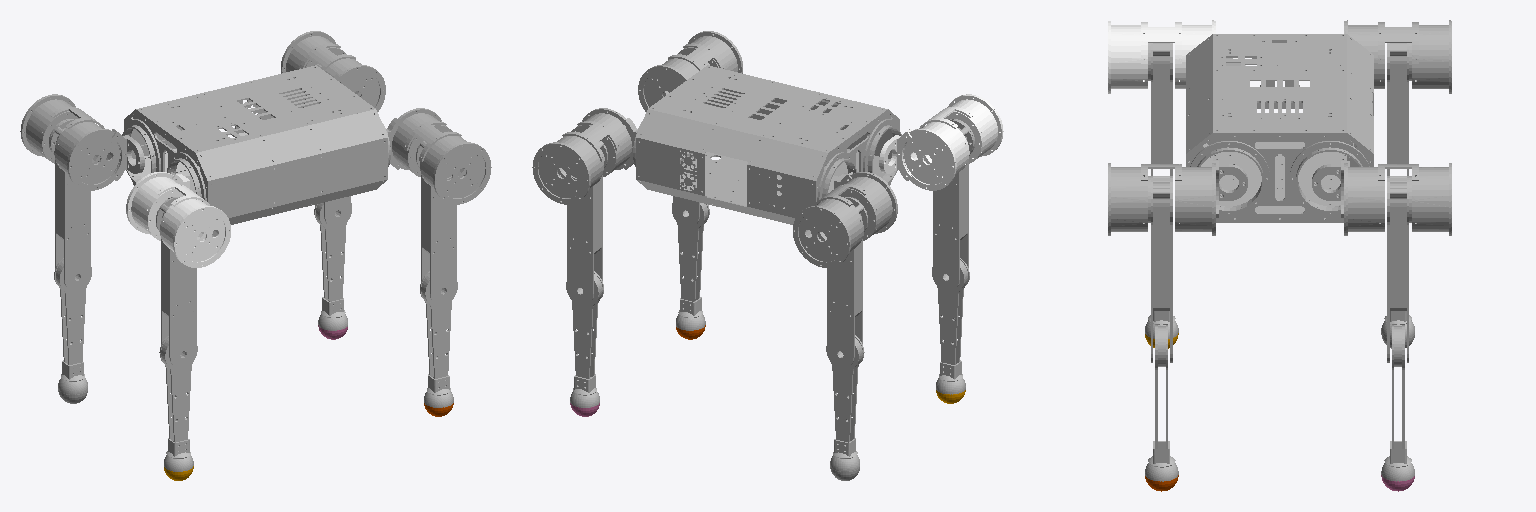
--- What the picture shows (computed from the rendered views, not written in the file) ---
The picture shows the robot from 3 angles, left to right: view 1: azimuth 30°, elevation 25°; view 2: azimuth 150°, elevation 25°; view 3: azimuth 270°, elevation 25°; orthographic projection.
Model m2_description with 17 links and 16 joints (16 revolute), rooted at base, posed every joint at zero.
Visible links, largest first — view 1: base, rl_abd_l, rr_abd_l, fr_abd_l, rl_hip_l, rr_hip_l, fr_hip_l, fl_abd_l, rl_knee_l, fr_knee_l, rr_knee_l, fl_knee_a (+1 smaller); view 2: base, rr_abd_l, rl_abd_l, fl_abd_l, rr_hip_l, rl_hip_l, fl_hip_l, fr_abd_l, rr_knee_l, fl_knee_a, rl_knee_l, fr_knee_l (+1 smaller); view 3: base, fr_abd_l, fl_abd_l, rr_abd_l, rl_abd_l, fr_hip_l, fl_hip_l, rr_hip_l, rl_hip_l, fr_knee_l, fl_knee_a.
Boxes of the visible links, <box> form: base: <box>122,65,390,224</box>; rl_abd_l: <box>20,94,144,190</box>; rr_abd_l: <box>126,172,230,267</box>; fr_abd_l: <box>386,108,491,204</box>; rl_hip_l: <box>49,119,90,290</box>; rr_hip_l: <box>156,197,196,368</box>; fr_hip_l: <box>416,141,456,304</box>; fl_abd_l: <box>281,31,385,111</box>; rl_knee_l: <box>54,258,91,394</box>; fr_knee_l: <box>420,271,457,407</box>; rr_knee_l: <box>159,336,197,471</box>; fl_knee_a: <box>314,203,351,330</box>; base: <box>633,65,901,224</box>; rr_abd_l: <box>879,94,1003,190</box>; rl_abd_l: <box>793,172,897,267</box>; fl_abd_l: <box>532,108,637,204</box>; rr_hip_l: <box>933,119,974,290</box>; rl_hip_l: <box>827,197,867,368</box>; fl_hip_l: <box>567,141,607,304</box>; fr_abd_l: <box>638,31,742,111</box>; rr_knee_l: <box>932,258,969,394</box>; fl_knee_a: <box>566,271,603,407</box>; rl_knee_l: <box>826,335,864,471</box>; fr_knee_l: <box>672,203,709,330</box>; base: <box>1186,34,1373,222</box>; fr_abd_l: <box>1108,161,1247,235</box>; fl_abd_l: <box>1312,161,1451,235</box>; rr_abd_l: <box>1108,20,1245,93</box>; rl_abd_l: <box>1344,20,1451,93</box>; fr_hip_l: <box>1148,176,1172,362</box>; fl_hip_l: <box>1387,176,1411,362</box>; rr_hip_l: <box>1148,43,1172,175</box>; rl_hip_l: <box>1387,43,1411,175</box>; fr_knee_l: <box>1145,325,1178,481</box>; fl_knee_a: <box>1381,325,1414,481</box>.
Size in the robot's own frame: 0.4845 by 0.4074 by 0.4385 metres.
13 mesh visuals loaded from 13 distinct referenced files (13 binary STL).

URDF robot description (m2_description):
<?xml version="1.0" encoding="utf-8"?>
<!-- This URDF was automatically created by SolidWorks to URDF Exporter! Originally created by Stephen Brawner ([email redacted]) 
     Commit Version: 1.6.0-1-g15f4949  Build Version: 1.6.7594.29634
     For more information, please see http://wiki.ros.org/sw_urdf_exporter -->
<robot
  name="m2_description">
  <link
    name="base">
    <inertial>
      <origin xyz="0.0047249 -0.0000177 0.0011585" rpy="0 0 0" />
      <mass value="3.4234000" />
      <inertia ixx="0.0163964" ixy="-0.0000159" ixz="0.0010427" iyy="0.0425922" iyz="-0.0000006" izz="0.0511340" />
    </inertial>
    <visual>
      <origin
        xyz="0 0 0"
        rpy="0 0 0" />
      <geometry>
        <mesh
          filename="package://m2_description/meshes/BASE.STL" />
      </geometry>
      <material
        name="">
        <color
          rgba="0.75294 0.75294 0.75294 1" />
      </material>
    </visual>
    <collision>
      <origin
        xyz="0 0 0"
        rpy="0 0 0" />
      <geometry>
        <mesh
          filename="package://m2_description/meshes/BASE.STL" />
      </geometry>
    </collision>
  </link>
<link name="fr_abd_l">
    <inertial>
      <origin xyz="0.0492121 -0.0779589 0.0008006" rpy="0 0 0" />
      <mass value="1.3509490" />
      <inertia ixx="0.0033376" ixy="-0.0001656" ixz="0.0000090" iyy="0.0011263" iyz="-0.0000051" izz="0.0033905" />
    </inertial>
    <visual>
      <origin
        xyz="0 0 0"
        rpy="0 0 0" />
      <geometry>
        <mesh
          filename="package://m2_description/meshes/RF_HIP.STL" />
      </geometry>
      <material
        name="">
        <color
          rgba="0.75294 0.75294 0.75294 1" />
      </material>
    </visual>
    <collision>
      <origin
        xyz="0 0 0"
        rpy="0 0 0" />
      <geometry>
        <mesh
          filename="package://m2_description/meshes/RF_HIP.STL" />
      </geometry>
    </collision>
  </link>
  <joint
    name="fr_abd_j"
    type="revolute">
    <origin
      xyz="0.155 -0.06 0"
      rpy="0 0 0" />
    <parent
      link="base" />
    <child
      link="fr_abd_l" />
    <axis
      xyz="1 0 0" />
    <limit
      lower="-4.8"
      upper="4.8"
      effort="20"
      velocity="52.4" />
  </joint>
  <link
    name="fr_hip_l">
    <inertial>
      <origin xyz="-0.0000042 0.0008381 -0.0603416" rpy="0 0 0" />
      <mass value="0.2502465" />
      <inertia ixx="0.0011437" ixy="0.0000000" ixz="-0.0000001" iyy="0.0011591" iyz="0.0000243" izz="0.0000720" />
    </inertial>
    <visual>
      <origin
        xyz="0 0 0"
        rpy="0 0 0" />
      <geometry>
        <mesh
          filename="package://m2_description/meshes/RF_THIGH.STL" />
      </geometry>
      <material
        name="">
        <color
          rgba="0.75294 0.75294 0.75294 1" />
      </material>
    </visual>
    <collision>
      <origin
        xyz="0 0 0"
        rpy="0 0 0" />
      <geometry>
        <mesh
          filename="package://m2_description/meshes/RF_THIGH.STL" />
      </geometry>
    </collision>
  </link>
  <joint
    name="fr_hip_j"
    type="revolute">
    <origin
      xyz="0.043751 -0.0796 0"
      rpy="0 0 0" />
    <parent
      link="fr_abd_l" />
    <child
      link="fr_hip_l" />
    <axis
      xyz="0 -1 0" />
    <limit effort="55" lower="-4.0471975512" upper="4.18879020479" velocity="28.6"/>

  </joint>
  <link
    name="fr_knee_l">
    <inertial>
      <origin xyz="-0.0035383 -0.0000273 -0.0688420" rpy="0 0 0" />
      <mass value="0.2017400" />
      <inertia ixx="0.0010436" ixy="-0.0000001" ixz="-0.0000693" iyy="0.0010692" iyz="-0.0000010" izz="0.0000424" />
    </inertial>
    <visual>
      <origin
        xyz="0 0 0"
        rpy="0 0 0" />
      <geometry>
        <mesh
          filename="package://m2_description/meshes/RF_SHANK.STL" />
      </geometry>
      <material
        name="">
        <color
          rgba="0.75294 0.75294 0.75294 1" />
      </material>
    </visual>
    <collision>
      <origin
        xyz="0 0 0"
        rpy="0 0 0" />
      <geometry>
        <mesh
          filename="package://m2_description/meshes/RF_SHANK.STL" />
      </geometry>
    </collision>
  </link>
  <joint
    name="fr_knee_j"
    type="revolute">
    <origin
      xyz="0 0 -0.1915"
      rpy="0 0 0" />
    <parent
      link="fr_hip_l" />
    <child
      link="fr_knee_l" />
    <axis
      xyz="0 -1 0" />
    <limit effort="55" lower="-4.69653369433" upper="4.916297857297" velocity="28.6"/>
  </joint>
  <joint name="fr_dummy_j" type="revolute">
    <origin
      xyz="-0.0 0 -0.16693"
      rpy="0 0 0" />
    <parent
      link="fr_knee_l" />
    <child
      link="foot_FR" />
    <limit lower="0" upper="0" effort="0" velocity="0" />
    <axis
      xyz="0 0 1" />
  </joint>
  <link
    name="fl_abd_l">
    <inertial>
      <origin xyz="0.0492121 0.0779589 0.0008006" rpy="0 0 0" />
      <mass value="1.3509490" />
      <inertia ixx="0.0033376" ixy="0.0001656" ixz="0.0000090" iyy="0.0011263" iyz="0.0000051" izz="0.0033905" />
    </inertial>
    <visual>
      <origin
        xyz="0 0 0"
        rpy="0 0 0" />
      <geometry>
        <mesh
          filename="package://m2_description/meshes/LF_HIP.STL" />
      </geometry>
      <material
        name="">
        <color
          rgba="0.752941176470588 0.752941176470588 0.752941176470588 1" />
      </material>
    </visual>
    <collision>
      <origin
        xyz="0 0 0"
        rpy="0 0 0" />
      <geometry>
        <mesh
          filename="package://m2_description/meshes/LF_HIP.STL" />
      </geometry>
    </collision>
  </link>
  <joint
    name="fl_abd_j"
    type="revolute">
    <origin
      xyz="0.155 0.06 0"
      rpy="0 0 0" />
    <parent
      link="base" />
    <child
      link="fl_abd_l" />
    <axis
      xyz="1 0 0" />
    <limit effort="20" lower="-3.802851455917" upper="3.802851455917" velocity="52.4"/>

  </joint>
  <link
    name="fl_hip_l">
    <inertial>
      <origin xyz="-0.0000042 -0.0008381 -0.0603416" rpy="0 0 0" />
      <mass value="0.2502465" />
      <inertia ixx="0.0011437" ixy="0.0000000" ixz="0.0000001" iyy="0.0011591" iyz="0.0000243" izz="0.0000720" />
    </inertial>
    <visual>
      <origin
        xyz="0 0 0"
        rpy="0 0 0" />
      <geometry>
        <mesh
          filename="package://m2_description/meshes/LF_THIGH.STL" />
      </geometry>
      <material
        name="">
        <color
          rgba="0.752941176470588 0.752941176470588 0.752941176470588 1" />
      </material>
    </visual>
    <collision>
      <origin
        xyz="0 0 0"
        rpy="0 0 0" />
      <geometry>
        <mesh
          filename="package://m2_description/meshes/LF_THIGH.STL" />
      </geometry>
    </collision>
  </link>
  <joint
    name="fl_hip_j"
    type="revolute">
    <origin
      xyz="0.043751 0.0796 0"
      rpy="0 0 0" />
    <parent
      link="fl_abd_l" />
    <child
      link="fl_hip_l" />
    <axis
      xyz="0 1 0" />
    <limit effort="55" lower="-4.0471975512" upper="4.18879020479" velocity="28.6"/>

  </joint>
  <link
    name="fl_knee_a">
    <inertial>
      <origin xyz="-0.0035383 0.0000273 -0.0688420" rpy="0 0 0" />
      <mass value="0.2017400" />
      <inertia ixx="0.0010436" ixy="0.0000001" ixz="-0.0000693" iyy="0.0010692" iyz="0.0000010" izz="0.0000424" />
    </inertial>
    <visual>
      <origin
        xyz="0 0 0"
        rpy="0 0 0" />
      <geometry>
        <mesh
          filename="package://m2_description/meshes/LF_SHANK.STL" />
      </geometry>
      <material
        name="">
        <color
          rgba="0.752941176470588 0.752941176470588 0.752941176470588 1" />
      </material>
    </visual>
    <collision>
      <origin
        xyz="0 0 0"
        rpy="0 0 0" />
      <geometry>
        <mesh
          filename="package://m2_description/meshes/LF_SHANK.STL" />
      </geometry>
    </collision>
  </link>
  <joint
    name="fl_knee_j"
    type="revolute">
    <origin
      xyz="0 0 -0.1915"
      rpy="0 0 0" />
    <parent
      link="fl_hip_l" />
    <child
      link="fl_knee_a" />
    <axis
      xyz="0 1 0" />
    <limit effort="55" lower="-4.69653369433" upper="4.916297857297" velocity="28.6"/>

  </joint>
  <joint name="fl_dummy_j" type="revolute">
    <origin
      xyz="-0.0 0 -0.16693"
      rpy="0 0 0" />
    <parent
      link="fl_knee_a" />
    <child
      link="foot_FL" />
    <axis
      xyz="0 0 1" />
    <limit lower="0" upper="0" effort="1000" velocity="0" />
  </joint>

  <link
    name="rr_abd_l">
    <inertial>
      <origin xyz="-0.0492121 -0.0779589 0.0008006" rpy="0 0 0" />
      <mass value="1.3509490" />
      <inertia ixx="0.0033376" ixy="0.0001656" ixz="-0.0000090" iyy="0.0011263" iyz="-0.0000051" izz="0.0033905" />
    </inertial>
    <visual>
      <origin
        xyz="0 0 0"
        rpy="0 0 0" />
      <geometry>
        <mesh
          filename="package://m2_description/meshes/RH_HIP.STL" />
      </geometry>
      <material
        name="">
        <color
          rgba="1 1 1 1" />
      </material>
    </visual>
    <collision>
      <origin
        xyz="0 0 0"
        rpy="0 0 0" />
      <geometry>
        <mesh
          filename="package://m2_description/meshes/RH_HIP.STL" />
      </geometry>
    </collision>
  </link>
  <joint
    name="rr_abd_j"
    type="revolute">
    <origin
      xyz="-0.155 -0.06 0"
      rpy="0 0 0" />
    <parent
      link="base" />
    <child
      link="rr_abd_l" />
    <axis
      xyz="-1 0 0" />
    <limit effort="20" lower="-4.802851455917" upper="4.802851455917" velocity="52.4"/>

  </joint>
  <link
    name="rr_hip_l">
    <inertial>
      <origin xyz="0.0000042 0.0008381 -0.0603416" rpy="0 0 0" />
      <mass value="0.2502465" />
      <inertia ixx="0.0011437" ixy="0.0000000" ixz="-0.0000001" iyy="0.0011591" iyz="-0.0000243" izz="0.0000720" />
    </inertial>
    <visual>
      <origin
        xyz="0 0 0"
        rpy="0 0 0" />
      <geometry>
        <mesh
          filename="package://m2_description/meshes/RH_THIGH.STL" />
      </geometry>
      <material
        name="">
        <color
          rgba="0.752941176470588 0.752941176470588 0.752941176470588 1" />
      </material>
    </visual>
    <collision>
      <origin
        xyz="0 0 0"
        rpy="0 0 0" />
      <geometry>
        <mesh
          filename="package://m2_description/meshes/RH_THIGH.STL" />
      </geometry>
    </collision>
  </link>
  <joint
    name="rr_hip_j"
    type="revolute">
    <origin
      xyz="-0.043751 -0.0796 0"
      rpy="0 0 0" />
    <parent
      link="rr_abd_l" />
    <child
      link="rr_hip_l" />
    <axis
      xyz="0 -1 0" />
    <limit effort="55" lower="-4.0471975512" upper="4.18879020479" velocity="28.6"/>

  </joint>
  <link
    name="rr_knee_l">
    <inertial>
      <origin xyz="0.0035383 0.0000273 -0.0688420" rpy="0 0 0" />
      <mass value="0.2017400" />
      <inertia ixx="0.0010436" ixy="0.0000001" ixz="-0.0000693" iyy="0.0010692" iyz="-0.0000010" izz="0.0000424" />
    </inertial>
    <visual>
      <origin
        xyz="0 0 0"
        rpy="0 0 0" />
      <geometry>
        <mesh
          filename="package://m2_description/meshes/RH_SHANK.STL" />
      </geometry>
      <material
        name="">
        <color
          rgba="0.752941176470588 0.752941176470588 0.752941176470588 1" />
      </material>
    </visual>
    <collision>
      <origin
        xyz="0 0 0"
        rpy="0 0 0" />
      <geometry>
        <mesh
          filename="package://m2_description/meshes/RH_SHANK.STL" />
      </geometry>
    </collision>
  </link>
  <joint
    name="rr_knee_j"
    type="revolute">
    <origin
      xyz="0 0 -0.1915"
      rpy="0 0 0" />
    <parent
      link="rr_hip_l" />
    <child
      link="rr_knee_l" />
    <axis
      xyz="0 -1 0" />
    <limit effort="55" lower="-4.69653369433" upper="4.916297857297" velocity="28.6"/>

  </joint>
    <joint name="rr_dummy_j" type="revolute">
    <origin
      xyz="-0.0 0 -0.16802"
      rpy="0 0 0" />
    <parent
      link="rr_knee_l" />
    <child
      link="foot_RR" />
    <limit lower="0" upper="0" effort="1000" velocity="0" />
    <axis
      xyz="0 0 1" />
  </joint>
  <link
    name="rl_abd_l">
    <inertial>
      <origin xyz="-0.0492121 0.0779589 0.0008006" rpy="0 0 0" />
      <mass value="1.3509490" />
      <inertia ixx="0.0033376" ixy="-0.0001656" ixz="-0.0000090" iyy="0.0011263" iyz="0.0000051" izz="0.0033905" />
    </inertial>
    <visual>
      <origin
        xyz="0 0 0"
        rpy="0 0 0" />
      <geometry>
        <mesh
          filename="package://m2_description/meshes/LH_HIP.STL" />
      </geometry>
      <material
        name="">
        <color
          rgba="0.752941176470588 0.752941176470588 0.752941176470588 1" />
      </material>
    </visual>
    <collision>
      <origin
        xyz="0 0 0"
        rpy="0 0 0" />
      <geometry>
        <mesh
          filename="package://m2_description/meshes/LH_HIP.STL" />
      </geometry>
    </collision>
  </link>
  <joint
    name="rl_abd_j"
    type="revolute">
    <origin
      xyz="-0.155 0.06 0"
      rpy="0 0 0" />
    <parent
      link="base" />
    <child
      link="rl_abd_l" />
    <axis
      xyz="-1 0 0" />
    <limit effort="20" lower="-4.802851455917" upper="4.802851455917" velocity="52.4"/>

  </joint>
  <link
    name="rl_hip_l">
    <inertial>
      <origin xyz="-0.0000042 -0.0008381 -0.0603416" rpy="0 0 0" />
      <mass value="0.2502465" />
      <inertia ixx="0.0011437" ixy="0.0000000" ixz="-0.0000001" iyy="0.0011591" iyz="0.0000243" izz="0.0000720" />
    </inertial>
    <visual>
      <origin
        xyz="0 0 0"
        rpy="0 0 0" />
      <geometry>
        <mesh
          filename="package://m2_description/meshes/LH_THIGH.STL" />
      </geometry>
      <material
        name="">
        <color
          rgba="0.752941176470588 0.752941176470588 0.752941176470588 1" />
      </material>
    </visual>
    <collision>
      <origin
        xyz="0 0 0"
        rpy="0 0 0" />
      <geometry>
        <mesh
          filename="package://m2_description/meshes/LH_THIGH.STL" />
      </geometry>
    </collision>
  </link>
  <joint
    name="rl_hip_j"
    type="revolute">
    <origin
      xyz="-0.043751 0.0796 0"
      rpy="0 0 0" />
    <parent
      link="rl_abd_l" />
    <child
      link="rl_hip_l" />
    <axis
      xyz="0 1 0" />
    <limit effort="55" lower="-4.0471975512" upper="4.18879020479" velocity="28.6"/>

  </joint>
  <link
    name="rl_knee_l">
    <inertial>
      <origin xyz="0.0035383 -0.0000273 -0.0688420" rpy="0 0 0" />
      <mass value="0.2017400" />
      <inertia ixx="0.0010436" ixy="-0.0000001" ixz="-0.0000693" iyy="0.0010692" iyz="0.0000010" izz="0.0000424" />
    </inertial>
    <visual>
      <origin
        xyz="0 0 0"
        rpy="0 0 0" />
      <geometry>
        <mesh
          filename="package://m2_description/meshes/LH_SHANK.STL" />
      </geometry>
      <material
        name="">
        <color
          rgba="0.752941176470588 0.752941176470588 0.752941176470588 1" />
      </material>
    </visual>
    <collision>
      <origin
        xyz="0 0 0"
        rpy="0 0 0" />
      <geometry>
        <mesh
          filename="package://m2_description/meshes/LH_SHANK.STL" />
      </geometry>
    </collision>
  </link>
  <joint
    name="rl_knee_j"
    type="revolute">
    <origin
      xyz="0 0 -0.1915"
      rpy="0 0 0" />
    <parent
      link="rl_hip_l" />
    <child
      link="rl_knee_l" />
    <axis
      xyz="0 1 0" />
    <limit effort="55" lower="-4.69653369433" upper="4.916297857297" velocity="28.6"/>

  </joint>

  <link name="foot_FR">
    <contact>
      <friction_anchor/>
      <stiffness value="30000.0"/>
      <damping value="750.0"/>
      <spinning_friction value="0.3"/>
      <lateral_friction value="50"/>
    </contact>
    <inertial>
        <origin xyz="0.0014979844072685 1.99840144432528E-15 7.77349055681165E-05"
        rpy="0 0 0" /> 
        <mass value="0.025" />
        <inertia ixx="2e-6" ixy="0" ixz="0" iyy="2e-6" iyz="0" izz="2e-6" />
      </inertial>
      <visual>
        <origin xyz="0 0 0" rpy="0 0 0" />
        <geometry>
          <sphere radius="0.02" />
        </geometry>
      </visual>
      <collision>
        <origin xyz="0 0 0" rpy="0 0 0" />
        <geometry>
          <sphere radius="0.02" />
        </geometry>
      </collision>
  </link>
  <link name="foot_FL">
    <contact>
      <friction_anchor/>
      <stiffness value="30000.0"/>
      <damping value="750.0"/>
      <spinning_friction value="0.3"/>
      <lateral_friction value="50"/>
    </contact>
    <inertial>
        <origin xyz="0.0014979844072685 1.99840144432528E-15 7.77349055681165E-05"
        rpy="0 0 0" /> 
        <mass value="0.025" />
        <inertia ixx="2e-6" ixy="0" ixz="0" iyy="2e-6" iyz="0" izz="2e-6" />
      </inertial>
      <visual>
        <origin xyz="0 0 0" rpy="0 0 0" />
        <geometry>
          <sphere radius="0.02" />
        </geometry>
      </visual>
      <collision>
        <origin xyz="0 0 0" rpy="0 0 0" />
        <geometry>
          <sphere radius="0.02" />
        </geometry>
      </collision>
  </link>
  <link name="foot_RL">
    <contact>
      <friction_anchor/>
      <stiffness value="30000.0"/>
      <damping value="750.0"/>
      <spinning_friction value="0.3"/>
      <lateral_friction value="50"/>
    </contact>
    <inertial>
        <origin xyz="0.0014979844072685 1.99840144432528E-15 7.77349055681165E-05"
        rpy="0 0 0" /> 
        <mass value="0.025" />
        <inertia ixx="2e-6" ixy="0" ixz="0" iyy="2e-6" iyz="0" izz="2e-6" />
      </inertial>
      <visual>
        <origin xyz="0 0 0" rpy="0 0 0" />
        <geometry>
          <sphere radius="0.02" />
        </geometry>
      </visual>
      <collision>
        <origin xyz="0 0 0" rpy="0 0 0" />
        <geometry>
          <sphere radius="0.02" />
        </geometry>
      </collision>
  </link>
  <link name="foot_RR">
    <contact>
      <friction_anchor/>
      <stiffness value="30000.0"/>
      <damping value="750.0"/>
      <spinning_friction value="0.3"/>
      <lateral_friction value="50"/>
    </contact>
    <inertial>
        <origin xyz="0.0014979844072685 1.99840144432528E-15 7.77349055681165E-05"
        rpy="0 0 0" /> 
        <mass value="0.025" />
        <inertia ixx="2e-6" ixy="0" ixz="0" iyy="2e-6" iyz="0" izz="2e-6" />
      </inertial>
      <visual>
        <origin xyz="0 0 0" rpy="0 0 0" />
        <geometry>
          <sphere radius="0.02" />
        </geometry>
      </visual>
      <collision>
        <origin xyz="0 0 0" rpy="0 0 0" />
        <geometry>
          <sphere radius="0.02" />
        </geometry>
      </collision>
  </link>
  <joint name="rl_dummy_j" type="revolute" >
    <origin
      xyz="-0.0 0 -0.16802"
      rpy="0 0 0" />
    <parent
      link="rl_knee_l" />
    <child
      link="foot_RL" />
    <axis
      xyz="0 0 1" />
    <limit lower="0" upper="0" effort="1000" velocity="0" />
  </joint>

  <gazebo reference="foot_FR">
      <material>Gazebo/Black</material>
    <collision>
      <surface>
        <bounce>
          <restitution_coefficient>0</restitution_coefficient>
          <threshold>1e+06</threshold>
        </bounce>
        <friction>
          <torsional>
            <coefficient>0.3</coefficient>
          </torsional>
          <ode>
            <mu>100.0</mu>
            <mu2>50</mu2>
          </ode>
          <bullet>
            <rolling_friction>0.3</rolling_friction>
            <friction2>50</friction2>
          </bullet>
        </friction>
        <contact>
          <bullet>
            <kp>30000.0</kp>
            <kd>1000.0</kd>
          </bullet>
          <ode>
            <kp>30000.0</kp>
            <kd>1000.0</kd>
          </ode>
        </contact>
      </surface>
    </collision>
  </gazebo>

  <gazebo reference="foot_FL">
      <material>Gazebo/Black</material>
    <collision>
      <surface>
        <bounce>
          <restitution_coefficient>0</restitution_coefficient>
          <threshold>1e+06</threshold>
        </bounce>
        <friction>
          <torsional>
            <coefficient>0.3</coefficient>
          </torsional>
          <ode>
            <mu>100.0</mu>
            <mu2>50</mu2>
          </ode>
          <bullet>
            <rolling_friction>0.3</rolling_friction>
            <friction2>50</friction2>
          </bullet>
        </friction>
        <contact>
          <bullet>
            <kp>30000.0</kp>
            <kd>1000.0</kd>
          </bullet>
          <ode>
            <kp>30000.0</kp>
            <kd>1000.0</kd>
          </ode>
        </contact>
      </surface>
    </collision>
  </gazebo>

  <gazebo reference="foot_RL">
      <material>Gazebo/Black</material>
    <collision>
      <surface>
        <bounce>
          <restitution_coefficient>0</restitution_coefficient>
          <threshold>1e+06</threshold>
        </bounce>
        <friction>
          <torsional>
            <coefficient>0.3</coefficient>
          </torsional>
          <ode>
            <mu>100.0</mu>
            <mu2>50</mu2>
          </ode>
          <bullet>
            <rolling_friction>0.3</rolling_friction>
            <friction2>50</friction2>
          </bullet>
        </friction>
        <contact>
          <bullet>
            <kp>30000.0</kp>
            <kd>1000.0</kd>
          </bullet>
          <ode>
            <kp>30000.0</kp>
            <kd>1000.0</kd>
          </ode>
        </contact>
      </surface>
    </collision>
  </gazebo>

  <gazebo reference="foot_RR">
      <material>Gazebo/Black</material>
    <collision>
      <surface>
        <bounce>
          <restitution_coefficient>0</restitution_coefficient>
          <threshold>1e+06</threshold>
        </bounce>
        <friction>
          <torsional>
            <coefficient>0.3</coefficient>
          </torsional>
          <ode>
            <mu>100.0</mu>
            <mu2>50</mu2>
          </ode>
          <bullet>
            <rolling_friction>0.3</rolling_friction>
            <friction2>50</friction2>
          </bullet>
        </friction>
        <contact>
          <bullet>
            <kp>30000.0</kp>
            <kd>1000.0</kd>
          </bullet>
          <ode>
            <kp>30000.0</kp>
            <kd>1000.0</kd>
          </ode>
        </contact>
      </surface>
    </collision>
  </gazebo>

   <gazebo>
        <plugin name="joint_state_sensor" filename="libjoint_state_sensor.so"/>
    </gazebo>
    <gazebo>
        <plugin name="base_state_sensor" filename="libbase_state_sensor.so"/>
    </gazebo>
    <!-- <gazebo>
        <plugin name="contact_plugin" filename="libcontact_plugin_new.so">
          <link1>foot_FR</link1>
          <link2>foot_FL</link2>
          <link3>foot_RL</link3>
          <link4>foot_RR</link4>
          <contact_model>0</contact_model>
        </plugin>
    </gazebo> -->
    <gazebo reference="foot_FR">
      <sensor name="FR_contact_sensor" type="contact">
        <always_on>1</always_on>
        <plugin name="contact_plugin_default" filename="libcontact_plugin_default.so">
          <foot_link>FR</foot_link>
        </plugin>
        <contact>
          <collision>foot_FR_collision</collision>
        </contact>
      </sensor>
    </gazebo>
    <gazebo reference="foot_FL">
      <sensor name="FL_contact_sensor" type="contact">
        <always_on>1</always_on>
        <plugin name="contact_plugin_default" filename="libcontact_plugin_default.so">
          <foot_link>FL</foot_link>
        </plugin>
        <contact>
          <collision>foot_FL_collision</collision>
        </contact>
      </sensor>
    </gazebo>
    <gazebo reference="foot_RL">
      <sensor name="RL_contact_sensor" type="contact">
        <always_on>1</always_on>
        <plugin name="contact_plugin_default" filename="libcontact_plugin_default.so">
          <foot_link>RL</foot_link>
        </plugin>
        <contact>
          <collision>foot_RL_collision</collision>
        </contact>
      </sensor>
    </gazebo>
    <gazebo reference="foot_RR">
      <sensor name="RR_contact_sensor" type="contact">
        <always_on>1</always_on>
        <plugin name="contact_plugin_default" filename="libcontact_plugin_default.so">
          <foot_link>RR</foot_link>
        </plugin>
        <contact>
          <collision>foot_RR_collision</collision>
        </contact>
      </sensor>
    </gazebo>
    <gazebo>
        <plugin name="motor_controller" filename="libmotor_controller.so">
          <!-- <kp0>75</kp0>
          <kp1>30.2</kp1>
          <kp2>18.415</kp2> -->
          <kp0>200.2</kp0>
          <kp1>60.2</kp1>
          <kp2>42.415</kp2>
          <kd0>1</kd0>
          <kd1>1.5</kd1>
          <kd2>0.5</kd2>
          <!-- <kp0>80</kp0>
          <kp1>40</kp1>
          <kp2>20</kp2>
          <kd0>1</kd0>
          <kd1>1</kd1>
          <kd2>0.5</kd2> -->
          <!-- <kp0>200</kp0>
          <kp1>120</kp1>
          <kp2>60</kp2>
          <kd0>1</kd0>
          <kd1>1</kd1>
          <kd2>0.5</kd2> -->
          <!-- adding higher gains for the swing leg -->
          <kpsw0>300</kpsw0>
          <kpsw1>300</kpsw1>
          <kpsw2>300</kpsw2>
          <kdsw0>6</kdsw0>
          <kdsw1>6</kdsw1>
          <kdsw2>6</kdsw2>
        </plugin>
    </gazebo>
    <gazebo>
        <plugin name="imu_sensor" filename="libgazebo_ros_imu.so">
            <alwaysOn>true</alwaysOn>
            <bodyName>base</bodyName>
            <frameName>base</frameName>
            <topicName>/shvan/imu</topicName>
            <serviceName>imu_service</serviceName>
            <xyzOffset> 0 0 0 </xyzOffset>
            <rpyOffset> 0 0 0 </rpyOffset>
            <gaussianNoise>0.001</gaussianNoise>
            <updateRate>1000.0</updateRate>
        </plugin>
    </gazebo>
    
    <gazebo reference='base'>
      <material>Gazebo/Green</material>
    </gazebo>


    <gazebo reference='fr_knee_l'>
      <material>Gazebo/Black</material>
    </gazebo>

    <gazebo reference='fl_knee_a'>
      <material>Gazebo/Black</material>
    </gazebo>

    <gazebo reference='rr_knee_l'>
      <material>Gazebo/Black</material>
    </gazebo>

   <gazebo reference='rl_knee_l'>
      <material>Gazebo/Black</material>
    </gazebo>



    <gazebo reference='fr_hip_l'>
      <material>Gazebo/Black</material>
    </gazebo>

    <gazebo reference='fl_hip_l'>
      <material>Gazebo/Black</material>
    </gazebo>

    <gazebo reference='rr_hip_l'>
      <material>Gazebo/Black</material>
    </gazebo>

   <gazebo reference='rl_hip_l'>
      <material>Gazebo/Black</material>
    </gazebo>



    <gazebo reference='fr_abd_l'>
      <material>Gazebo/Grey</material>
    </gazebo>

    <gazebo reference='fl_abd_l'>
      <material>Gazebo/Grey</material>
    </gazebo>

    <gazebo reference='rr_abd_l'>
      <material>Gazebo/Grey</material>
    </gazebo>

   <gazebo reference='rl_abd_l'>
      <material>Gazebo/Grey</material>
    </gazebo>
</robot>
